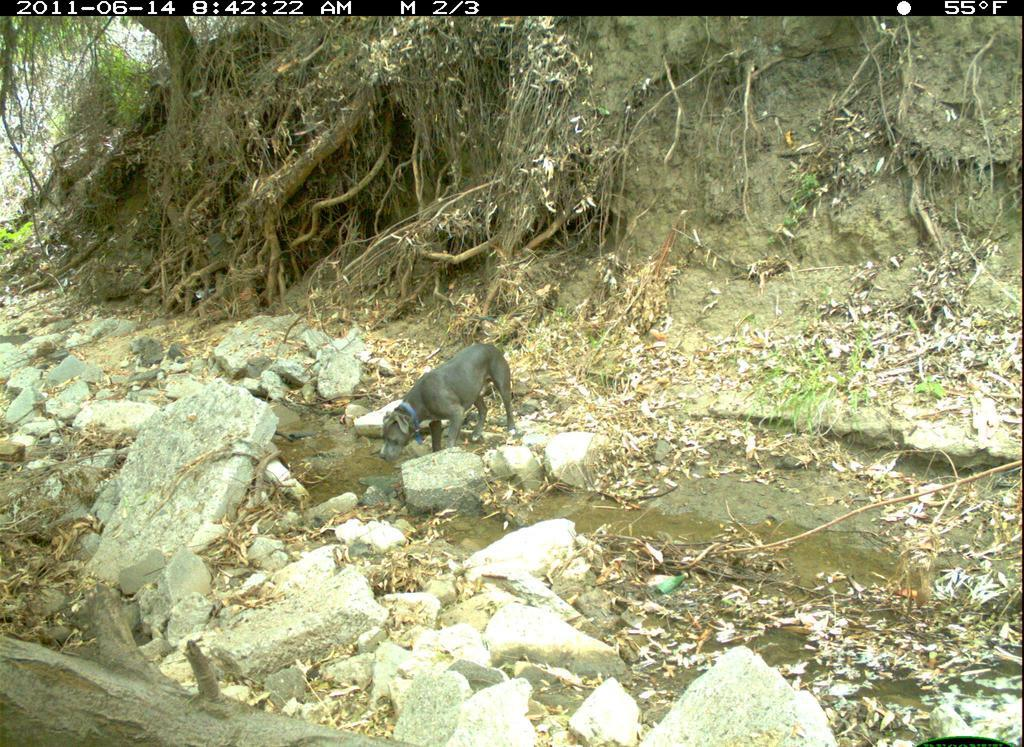dog: (370, 337, 527, 472)
